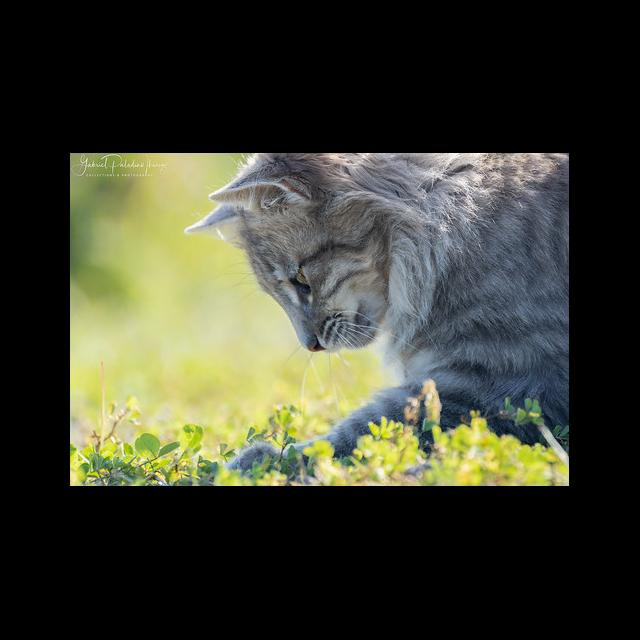animals: (185, 154, 569, 475)
